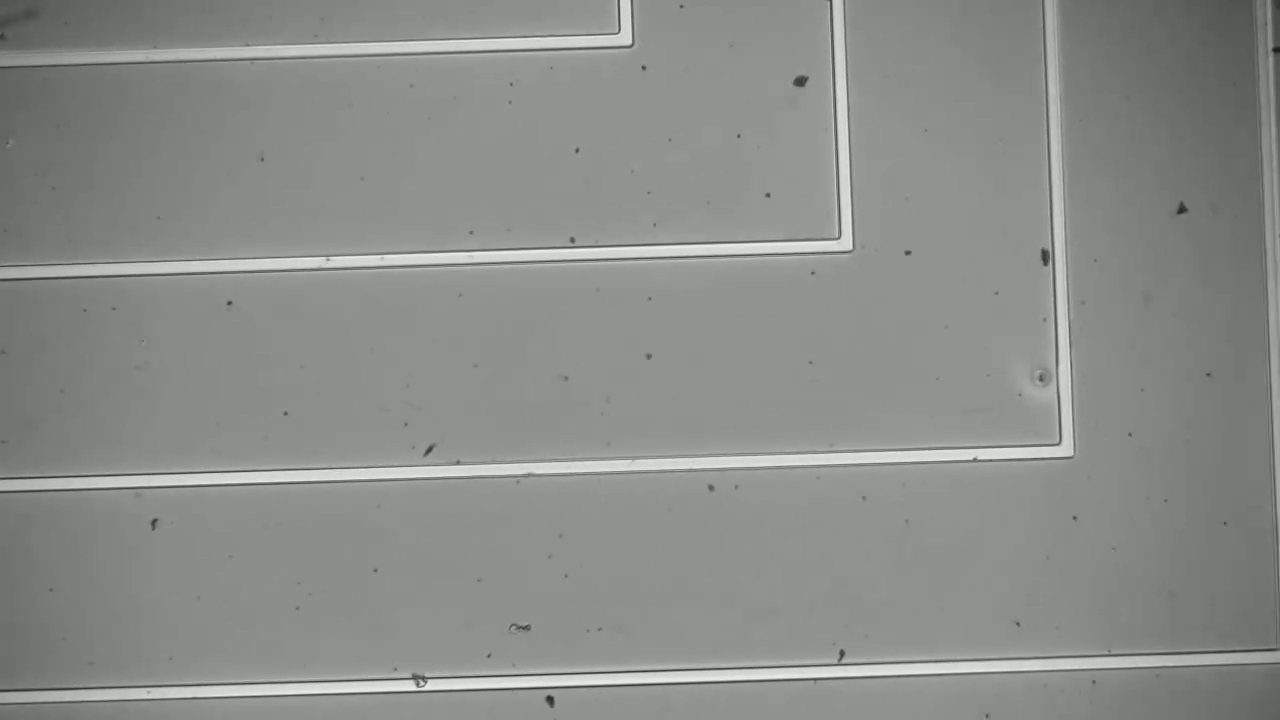stains_enbedded: (404, 667, 443, 696)
